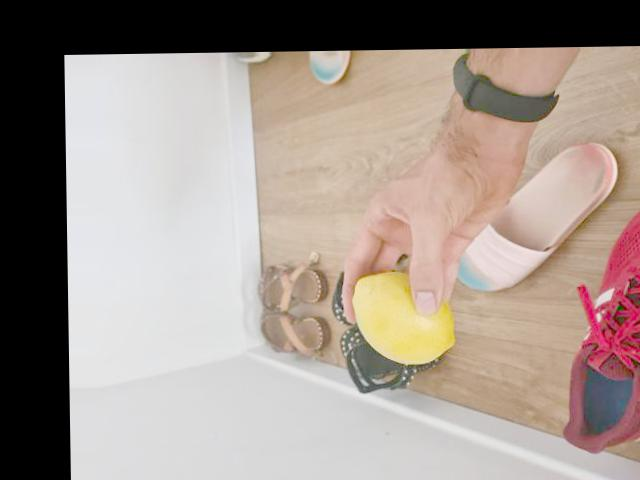lemon: (352, 269, 457, 362)
